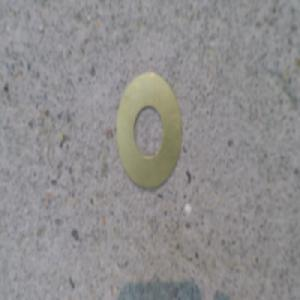Washer: (115, 68, 181, 186)
